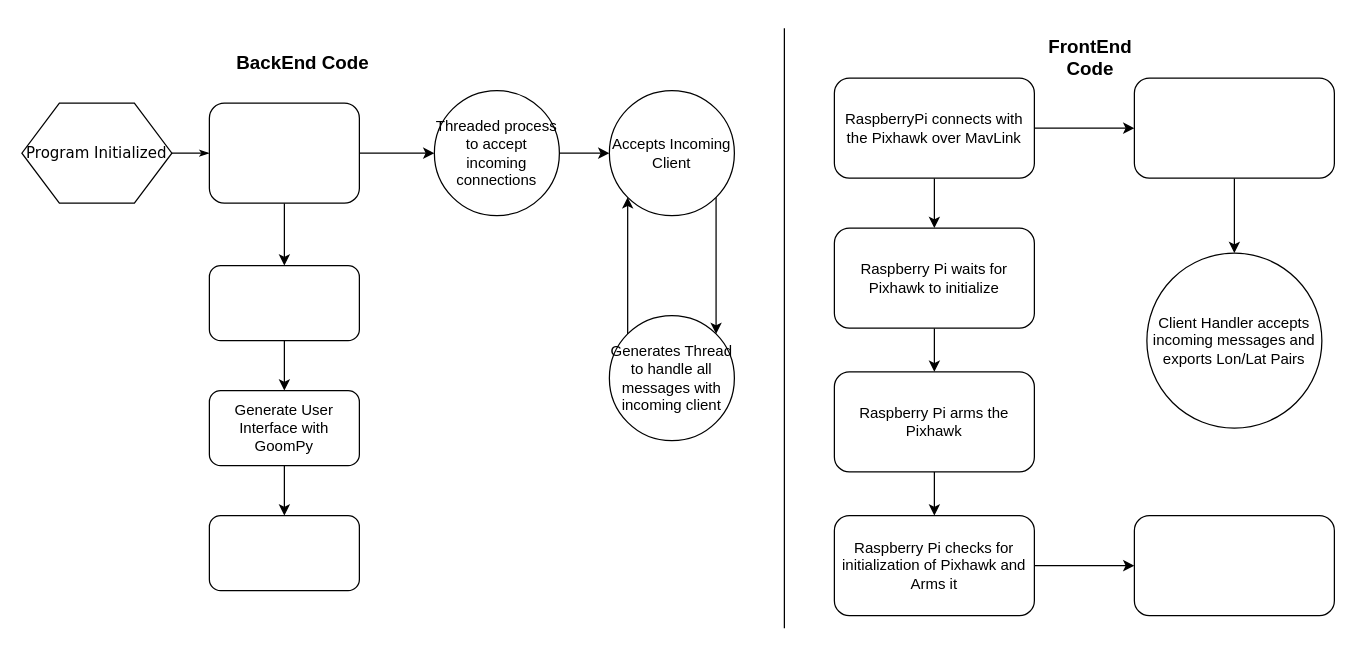
Some shapes in this 1356 by 651 pixel diagram are drawn without their labels. The centre of each missing label's shape, as x and y in pixels:
Fetch Static Google Maps for Lon/Lat Pair: (283,302)
On click a Lon/Lat Pair is sent over UDP to the connected clients: (283,552)
Raspberry Pi sends updated commands from command computer to Pixhawk: (1233,565)
Server is assigned an IP and Port and Client Handling is Threaded: (1233,127)
Start Server Loop to Accept Connections: (283,152)
